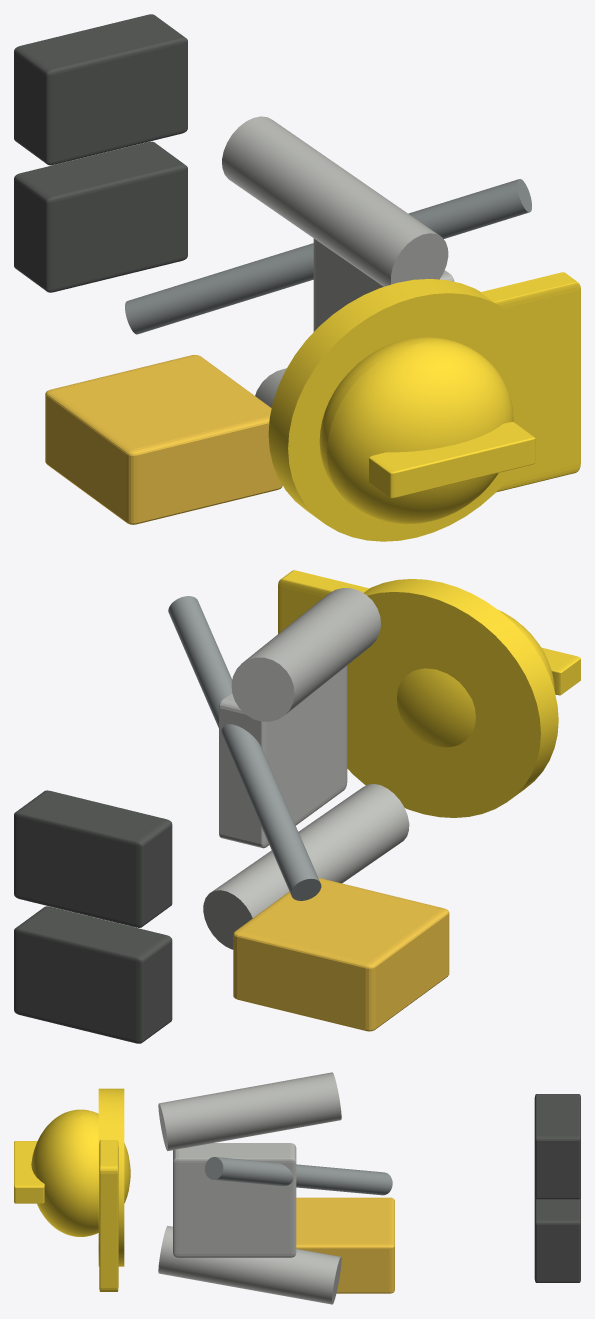
File: c-u01-engineer-lod2.glb
3 renders of one model, top to bottom at view 1: azimuth 30°, elevation 25°; view 2: azimuth 150°, elevation 25°; view 3: azimuth 270°, elevation 25°, orthographic. The views are drawn at different scales.
Visible parts, largest first — view 1: soldier_0_engineer_tool_satchel, soldier_0_engineer_hardhat_brim, soldier_0_engineer_hardhat_crown, soldier_0_boot_-1, soldier_0_boot_1, soldier_0_arm_1, soldier_0_engineer_hardhat_front, soldier_0_engineer_tool_handle, soldier_0_engineer_hardhat_ridge, soldier_0_chest; view 2: soldier_0_engineer_hardhat_brim, soldier_0_engineer_tool_satchel, soldier_0_boot_1, soldier_0_boot_-1, soldier_0_chest, soldier_0_arm_-1, soldier_0_arm_1, soldier_0_engineer_tool_handle, soldier_0_engineer_hardhat_crown, soldier_0_engineer_hardhat_front, soldier_0_engineer_hardhat_ridge; view 3: soldier_0_chest, soldier_0_arm_1, soldier_0_engineer_tool_satchel, soldier_0_engineer_hardhat_crown, soldier_0_arm_-1, soldier_0_boot_1, soldier_0_engineer_tool_handle, soldier_0_boot_-1, soldier_0_engineer_hardhat_front, soldier_0_engineer_hardhat_brim, soldier_0_engineer_hardhat_ridge.
Part boxes in pixels (x1,y1,x2,y2): soldier_0_engineer_tool_satchel: (45,355,282,524); soldier_0_engineer_hardhat_brim: (268,279,544,541); soldier_0_engineer_hardhat_crown: (319,337,513,524); soldier_0_boot_-1: (14,141,187,292); soldier_0_boot_1: (14,14,187,165); soldier_0_arm_1: (222,116,448,286); soldier_0_engineer_hardhat_front: (480,272,580,492); soldier_0_engineer_tool_handle: (125,179,531,334); soldier_0_engineer_hardhat_ridge: (369,422,535,498); soldier_0_chest: (313,238,454,331); soldier_0_engineer_hardhat_brim: (347,579,558,817); soldier_0_engineer_tool_satchel: (233,877,449,1031); soldier_0_boot_1: (14,790,172,927); soldier_0_boot_-1: (14,906,172,1043); soldier_0_chest: (219,665,347,848); soldier_0_arm_-1: (203,784,409,949); soldier_0_arm_1: (231,588,380,721); soldier_0_engineer_tool_handle: (168,596,321,900); soldier_0_engineer_hardhat_crown: (397,610,554,747); soldier_0_engineer_hardhat_front: (278,570,369,633); soldier_0_engineer_hardhat_ridge: (541,647,580,695); soldier_0_chest: (173,1143,296,1257); soldier_0_arm_1: (158,1072,341,1150); soldier_0_engineer_tool_satchel: (296,1197,394,1293); soldier_0_engineer_hardhat_crown: (31,1109,130,1236); soldier_0_arm_-1: (158,1226,341,1304); soldier_0_boot_1: (534,1094,580,1199); soldier_0_engineer_tool_handle: (205,1157,392,1195); soldier_0_boot_-1: (534,1196,580,1282); soldier_0_engineer_hardhat_front: (99,1140,118,1291); soldier_0_engineer_hardhat_brim: (98,1088,124,1266); soldier_0_engineer_hardhat_ridge: (14,1141,44,1203).
Size of what is drawn, in the model's own units: 1.05 by 0.9606 by 2.21.
